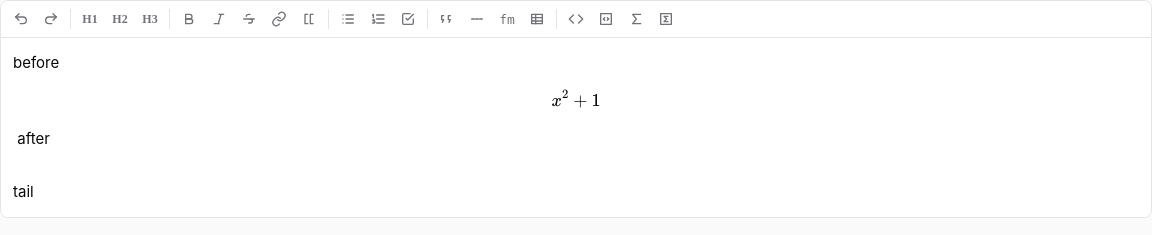
Scenario: clicking a rendered one-line $$…$$ widget opens the Math field too
The image size is (1152, 235).
Click the element with class "cm-inplace-math". click: (588, 99)
box: [552,87,625,111]
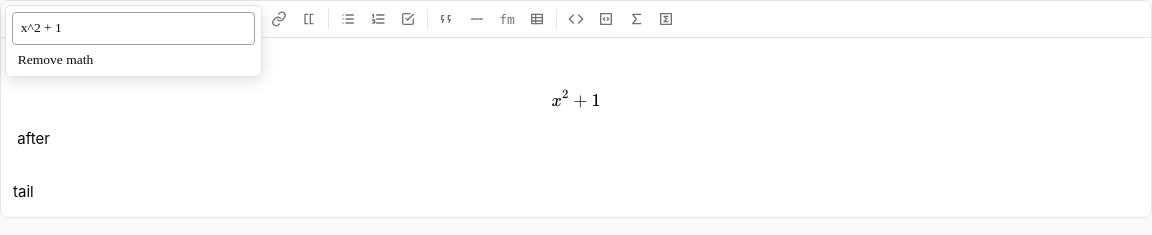
Result: the field with class "cm-inplace-menu-input" holds "x^2 + 1" at [12,12,255,45]
